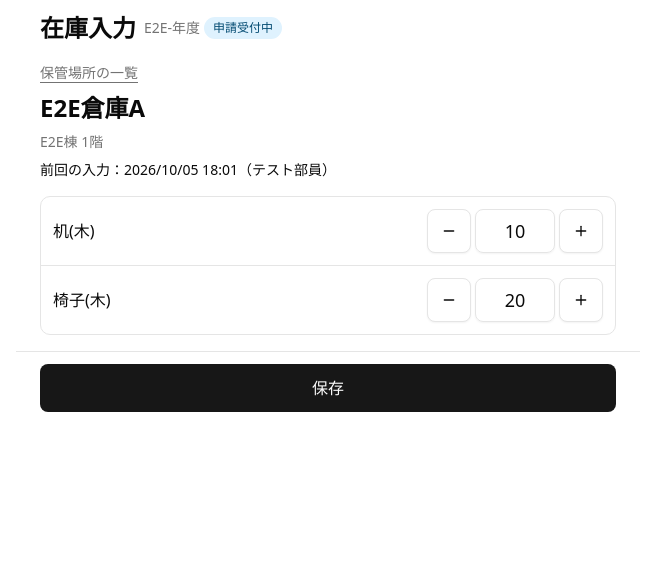
StockInput：書けるか（設計 3.3 の表） › 部員は申請受付中に書ける。保存すると全品目を1回の upsert で送り「保存しました」と「次の部屋へ」
Expected: the field named "机(木)の数" holds "10", [475, 209, 555, 253]
What coordinates should you click on to do the following:
click the button named "机(木)の数を1増やす"
I would click on:
 (581, 231)
Its box is [559, 209, 603, 253].
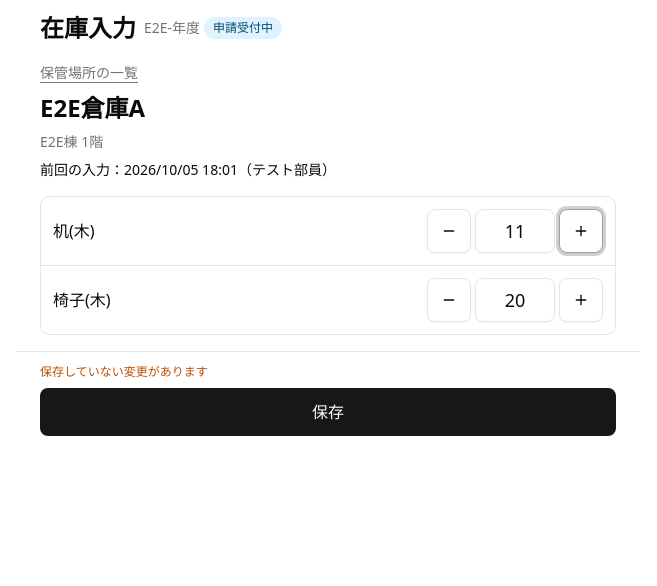
What coordinates should you click on to do the following:
click the button "保存"
I would click on:
 (328, 412)
Its box is [40, 388, 616, 436].
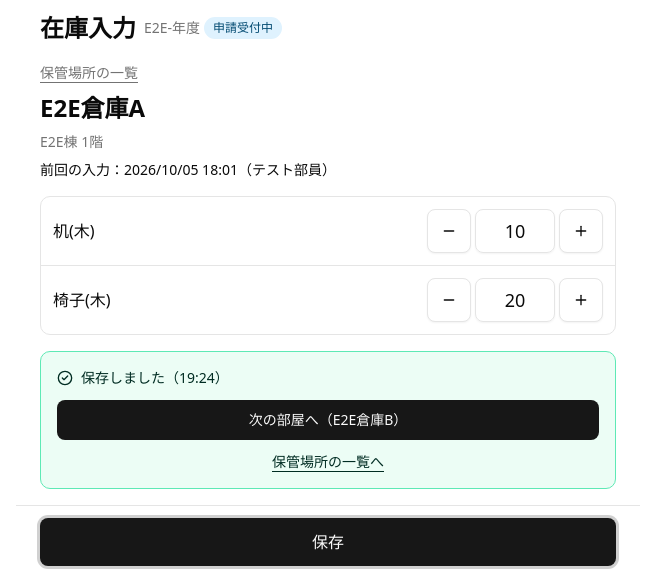
Expected: the element with test id "last-counted" shows "テスト部員", [252, 160, 322, 179]
Expected: the message "保存しました（19:24） 次の部屋へ（E2E倉庫B） 保管場所の一覧へ" is shown, [40, 351, 616, 489]
Expected: the link "次の部屋へ（E2E倉庫B）" is shown, [57, 400, 599, 440]
